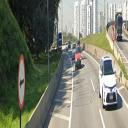NoSeguir: (112, 23, 116, 42)
